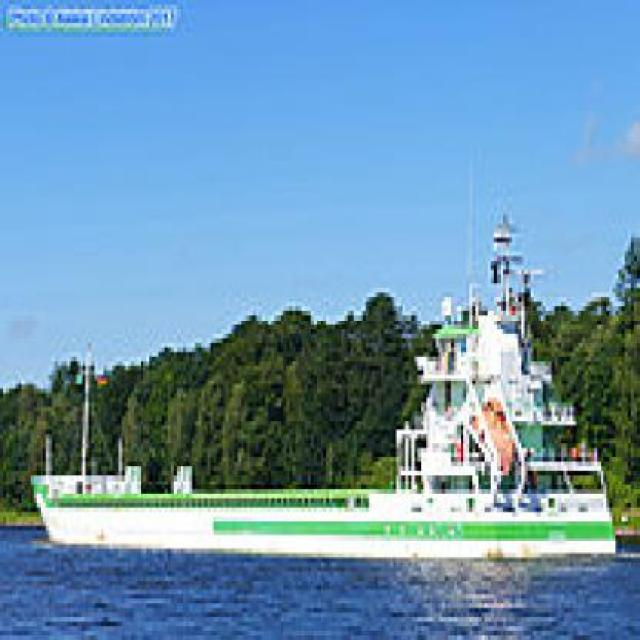container: (23, 408, 629, 572)
